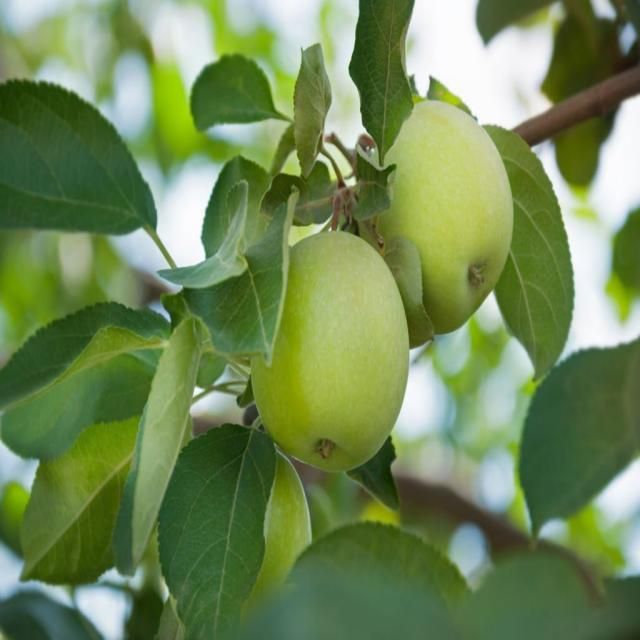Green Apple: (258, 237, 408, 460), (373, 102, 513, 314)
